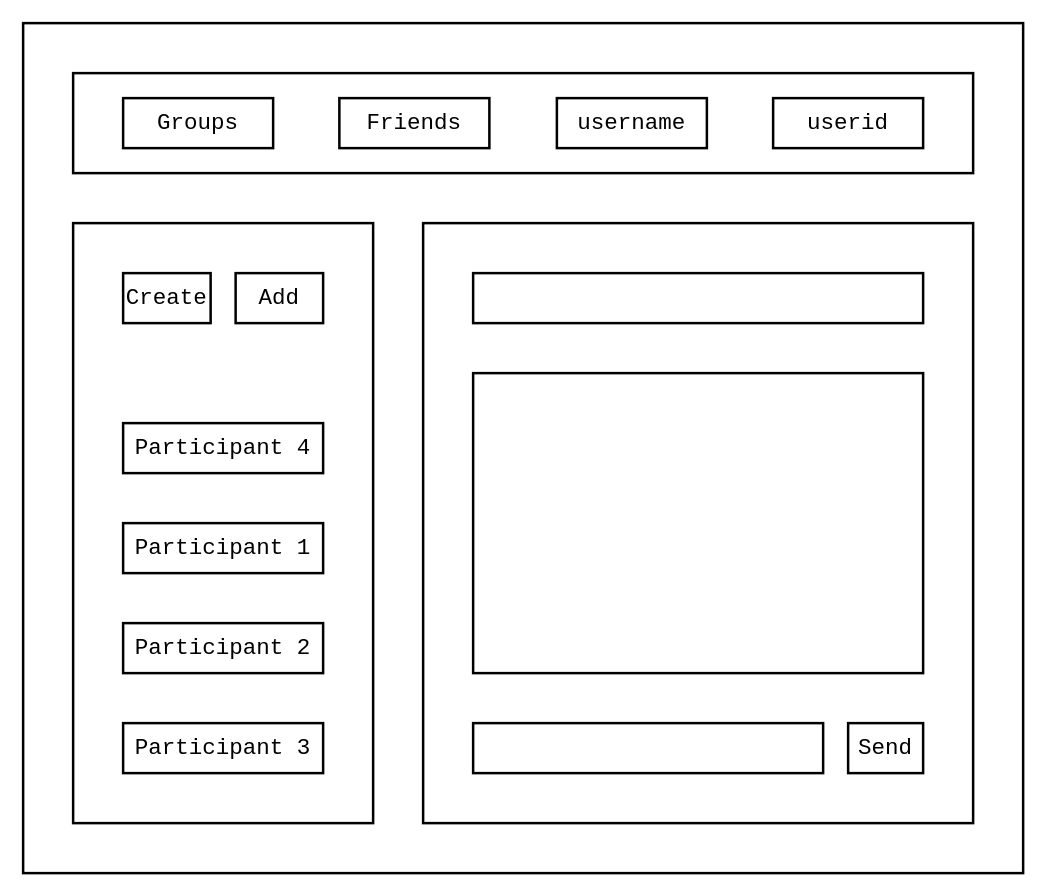
Image size: 1045x895. Some labels were removed from this diagram. The box of each missing label's shape, as (x1, y1, x2, y2) in pixels:
Name: (471, 271, 924, 324)
Text: (471, 721, 824, 774)
